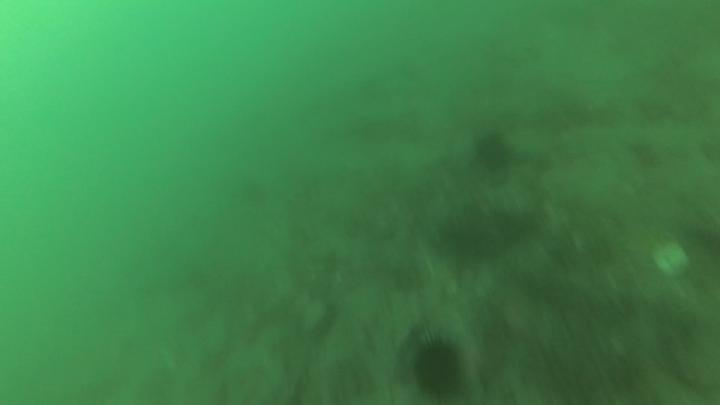echinus: (404, 323, 473, 403), (469, 126, 515, 175)
scallop: (649, 237, 693, 280)
